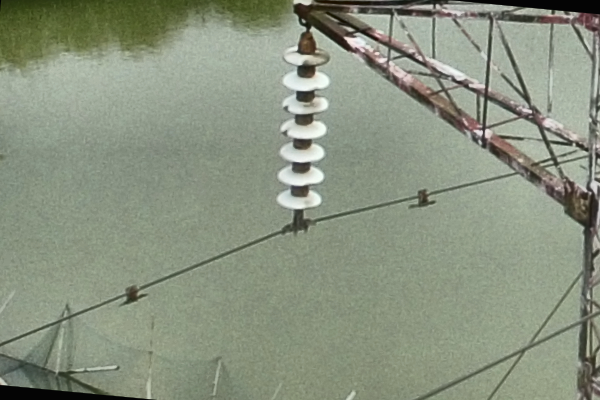damper_defect: (116, 282, 151, 309), (406, 187, 439, 210)
